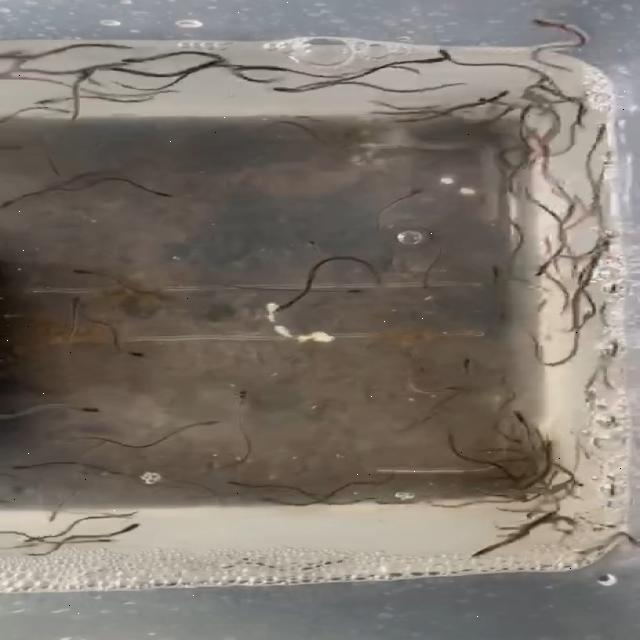inactive_glass_eel: (512, 259, 568, 280), (484, 78, 523, 105), (240, 491, 286, 511), (181, 417, 224, 435), (101, 518, 139, 538), (268, 81, 310, 99), (404, 54, 446, 72), (525, 84, 589, 95), (0, 196, 41, 212), (427, 49, 473, 63), (474, 262, 506, 282), (18, 532, 58, 548), (110, 52, 154, 66), (73, 68, 107, 85), (96, 42, 132, 58), (342, 281, 378, 297), (126, 342, 149, 366), (209, 478, 243, 494), (499, 409, 535, 424), (63, 264, 100, 278), (272, 298, 304, 314), (14, 458, 46, 474), (404, 276, 438, 291), (524, 18, 566, 30), (68, 406, 110, 418), (398, 184, 432, 198), (24, 92, 62, 104), (49, 102, 77, 117), (430, 382, 460, 396), (154, 186, 180, 202), (226, 390, 259, 402), (62, 292, 84, 306), (459, 354, 481, 367), (109, 66, 131, 78), (536, 438, 556, 449)
